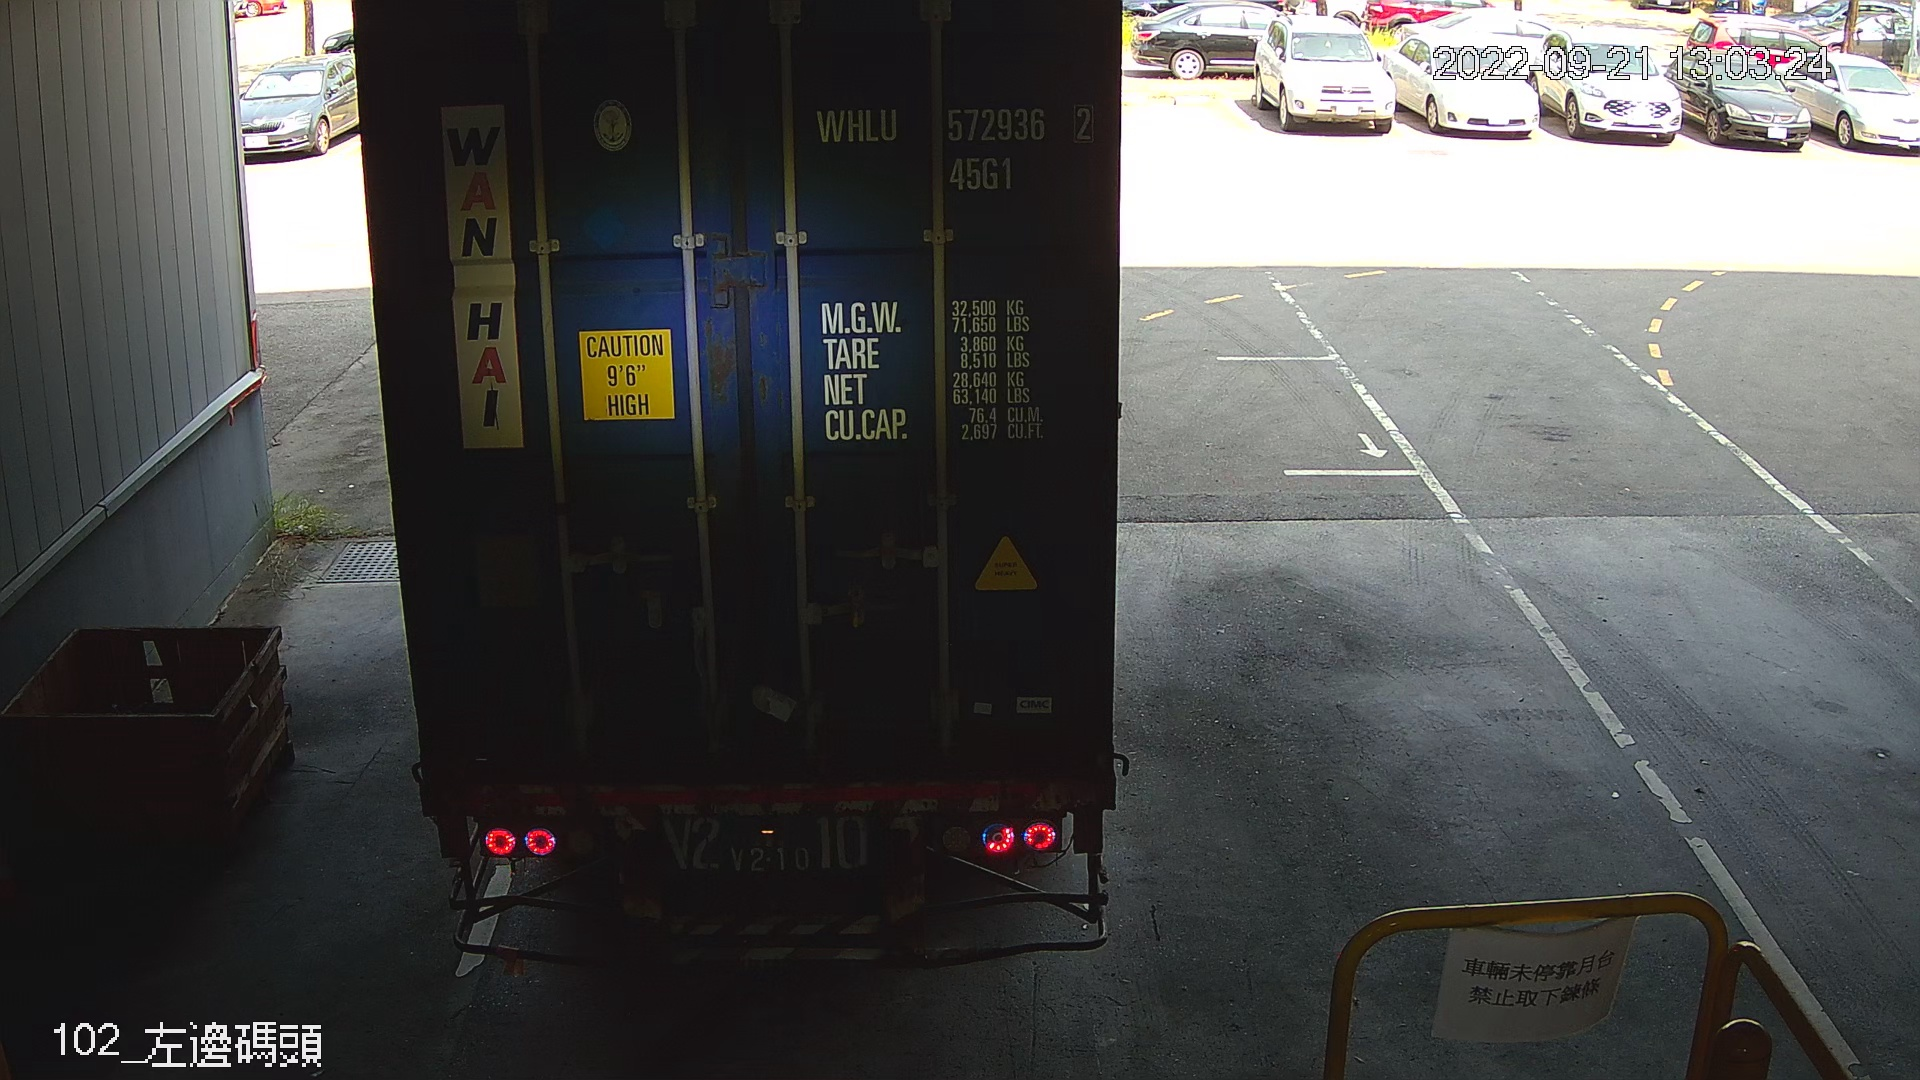container: (807, 91, 1102, 199)
